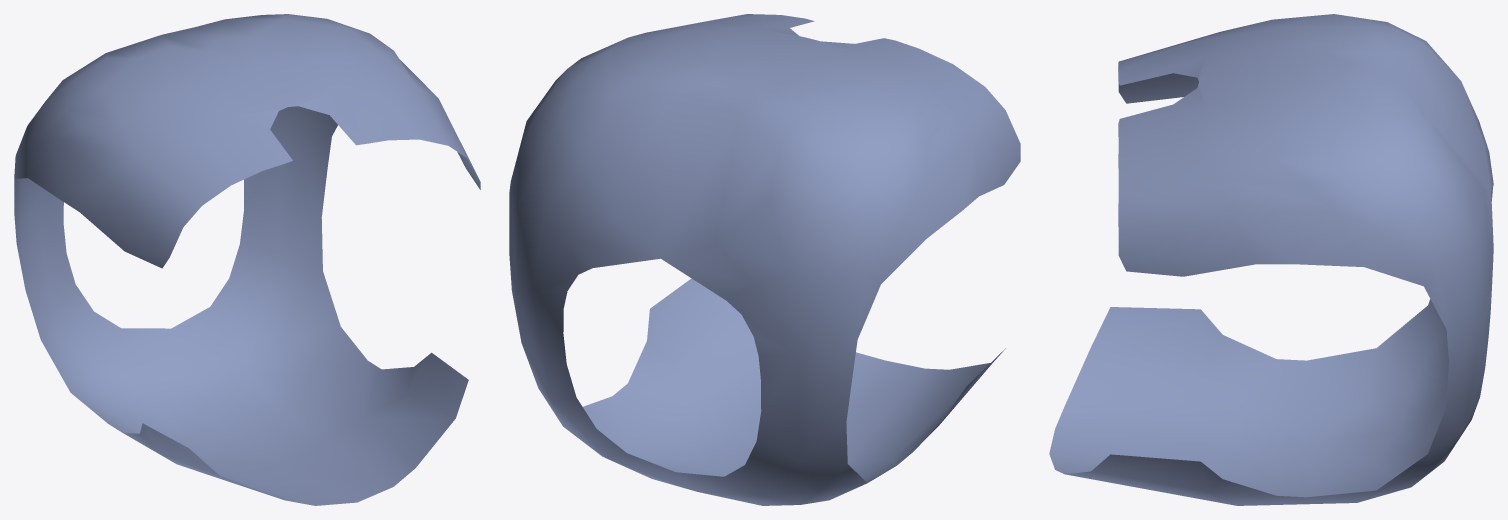
File: icub_simple_collision_chest.dae
3 views of the same model, side by side, from view 1: azimuth 30°, elevation 25°; view 2: azimuth 150°, elevation 25°; view 3: azimuth 270°, elevation 25° (orthographic). The views are drawn at different scales.
Parts seen in each view (by area): view 1: torso_mesh; view 2: torso_mesh; view 3: torso_mesh.
Boxes of the visible parts, x1,y1,x2,y2 form: torso_mesh: [14, 14, 480, 505]; torso_mesh: [509, 14, 1020, 505]; torso_mesh: [1049, 14, 1493, 505].
Size of the model in its own units: 0.1898 by 0.1868 by 0.1827.
